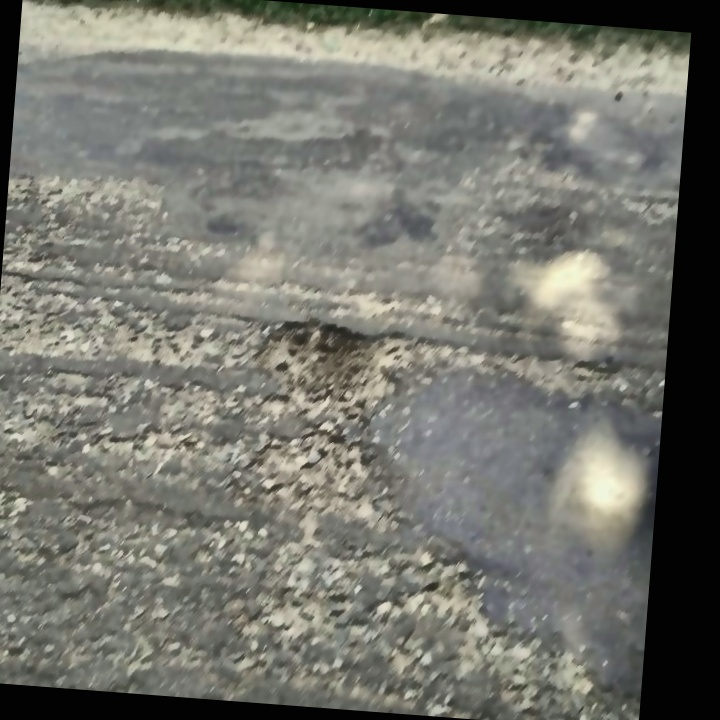pothole: (252, 310, 414, 426)
